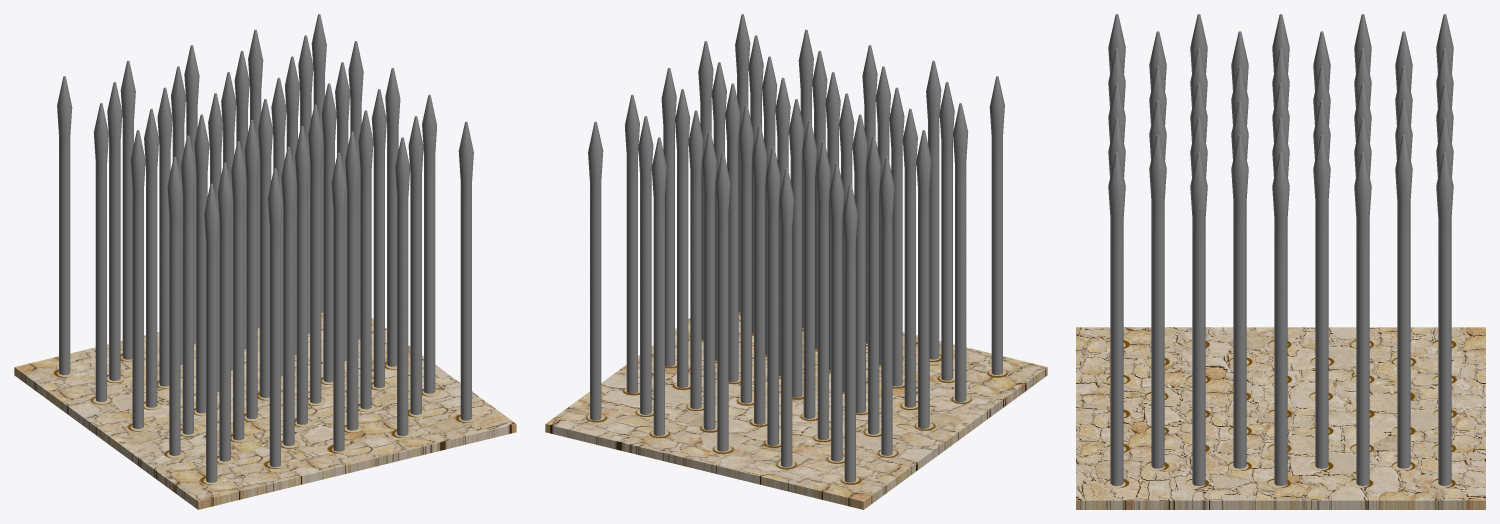
The model's file is GroundSpikes.FBX.
3 renders of one model, left to right at view 1: azimuth 30°, elevation 25°; view 2: azimuth 150°, elevation 25°; view 3: azimuth 270°, elevation 25°, orthographic. The views are drawn at different scales.
Parts seen in each view (by area): view 1: Spikes, SpikePlate; view 2: Spikes, SpikePlate; view 3: Spikes, SpikePlate.
Boxes of the visible parts, bbox=[...] form: Spikes: bbox=[57, 14, 473, 482]; SpikePlate: bbox=[14, 312, 516, 509]; Spikes: bbox=[588, 14, 1004, 482]; SpikePlate: bbox=[545, 312, 1047, 509]; Spikes: bbox=[1108, 14, 1453, 485]; SpikePlate: bbox=[1076, 327, 1485, 509].
Size of the model in its own units: 78.74 by 78.74 by 71.97.
